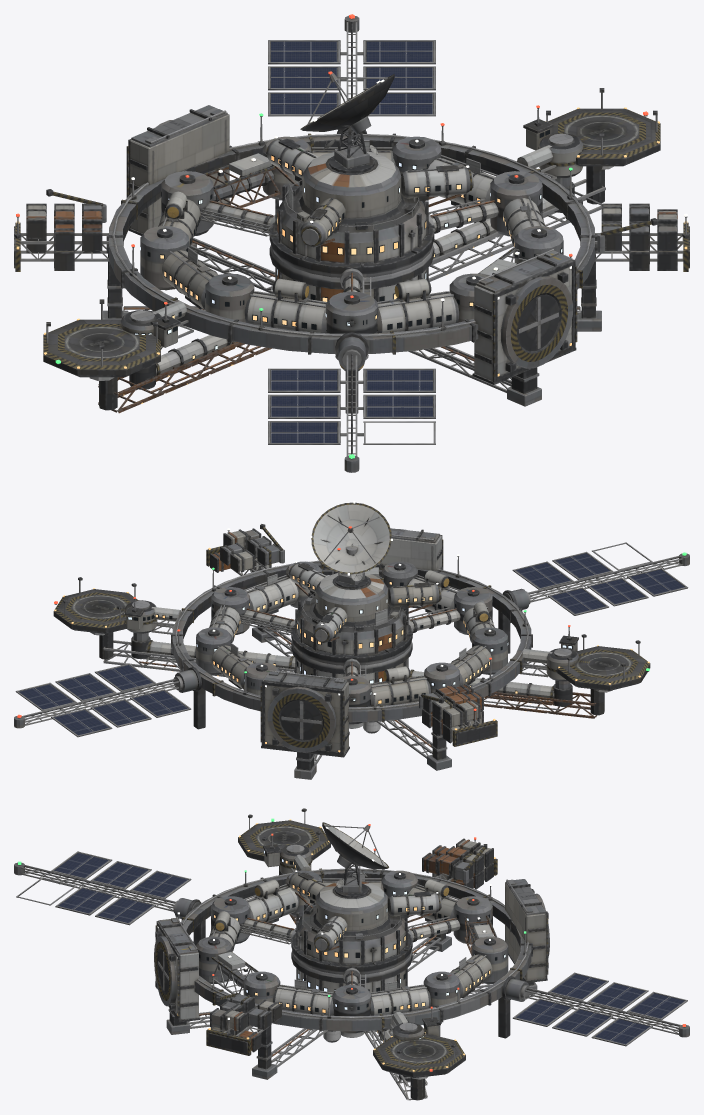
Rendered from station_forward.glb.
The picture shows the model from 3 angles, top to bottom: view 1: azimuth 30°, elevation 25°; view 2: azimuth 150°, elevation 25°; view 3: azimuth 270°, elevation 25°; orthographic projection. The views are drawn at different scales.
Parts seen in each view (by area): view 1: station_bays, station_ring, station_core, station_docks, station_solar; view 2: station_bays, station_core, station_ring, station_solar, station_docks; view 3: station_bays, station_ring, station_solar, station_core, station_docks.
Part boxes in pixels (x1,y1,x2,y2): station_bays: (14,105,689,406); station_ring: (140,136,563,354); station_core: (266,71,473,370); station_docks: (43,88,660,413); station_solar: (268,14,435,472); station_bays: (171,524,532,779); station_core: (288,501,441,733); station_ring: (195,561,508,724); station_solar: (14,542,689,737); station_docks: (53,577,650,718); station_bays: (154,837,549,1079); station_ring: (196,870,508,1033); station_solar: (14,851,689,1046); station_core: (289,822,441,1042); station_docks: (238,808,465,1100).
Bounding box in the file's own units: 91.55 × 36.43 × 104.
10 materials, 2 textured.
